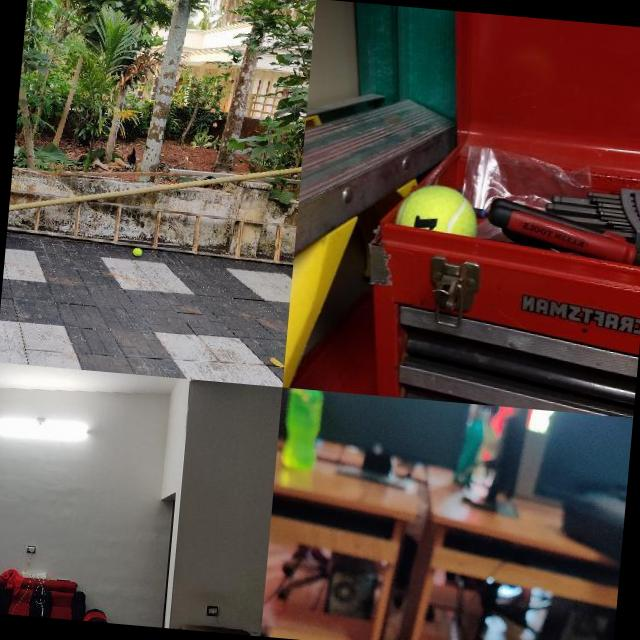Tennis Ball: (394, 182, 480, 228), (132, 248, 142, 258)
